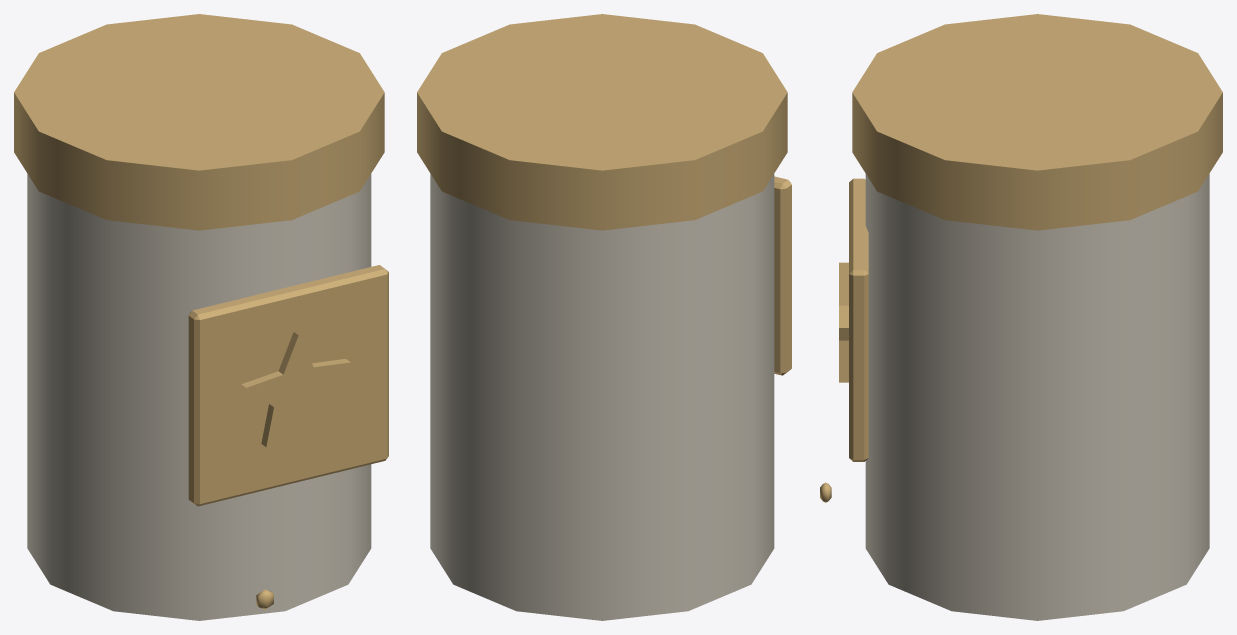
3 renders of one model, left to right at view 1: azimuth 30°, elevation 25°; view 2: azimuth 150°, elevation 25°; view 3: azimuth 270°, elevation 25°, orthographic.
Parts seen in each view (by area): view 1: g_s18; view 2: g_s18; view 3: g_s18.
Boxes of the visible parts, bbox=[...] form: g_s18: bbox=[14, 14, 388, 620]; g_s18: bbox=[417, 14, 791, 620]; g_s18: bbox=[820, 14, 1222, 620].
Size of the model in its own units: 0.28 by 0.38 by 0.3043.
